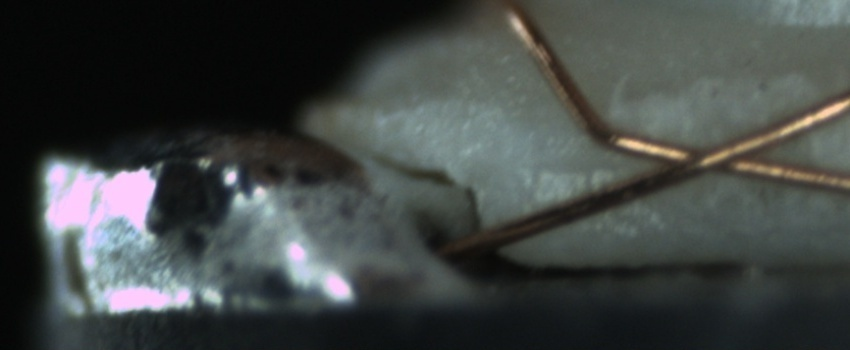CL: (622, 121, 802, 184)
DL: (517, 138, 643, 199)
